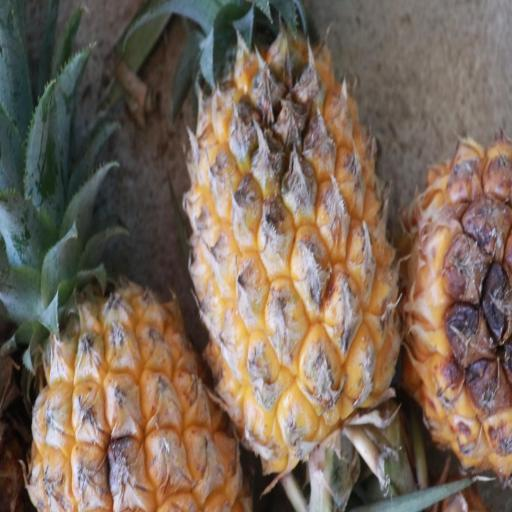Pineapple - v8 v1: (184, 2, 402, 472), (22, 141, 258, 512)
